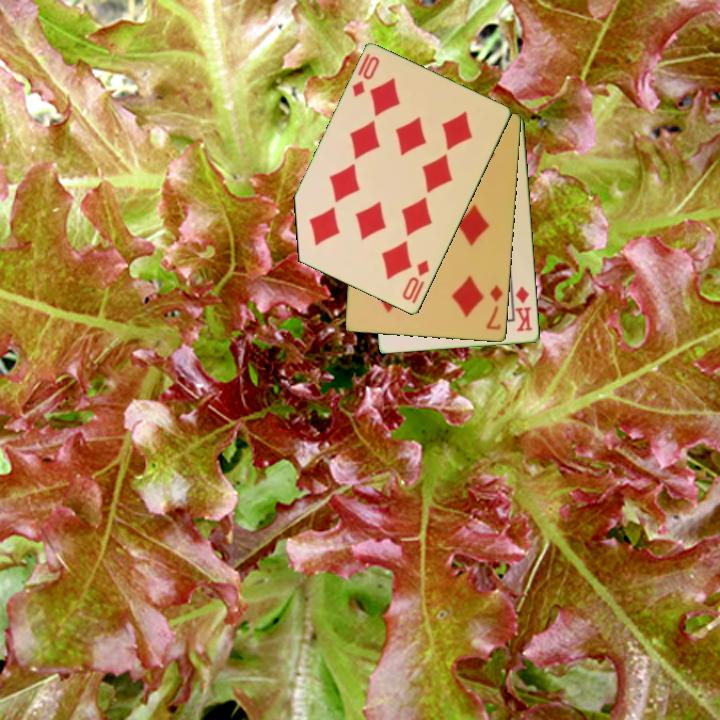10d: (349, 50, 383, 100), (399, 257, 433, 304)
7d: (483, 282, 506, 333)
Kd: (512, 283, 536, 335)
